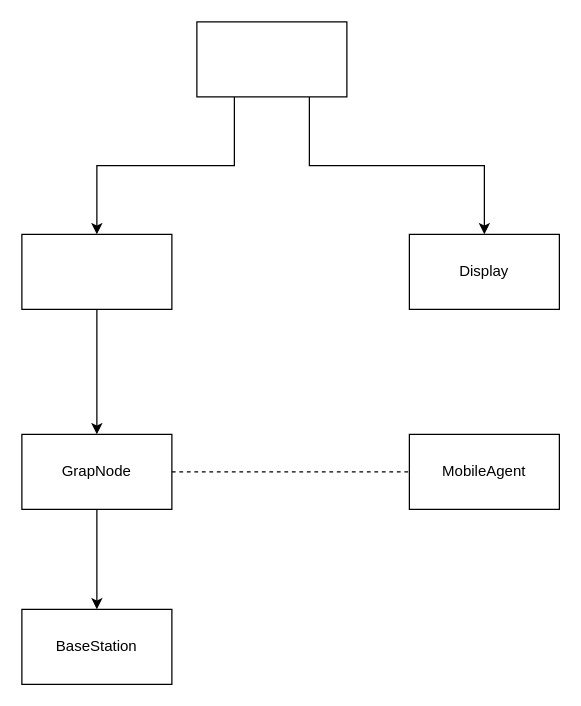
This 581x706 diagram has some shape labels left out. The shapes that lost their labels are listed below. From the top down, each one's centre as x and y in pixels, then its label:
At point 271,59: "Main".
At point 96,271: "Graph".
